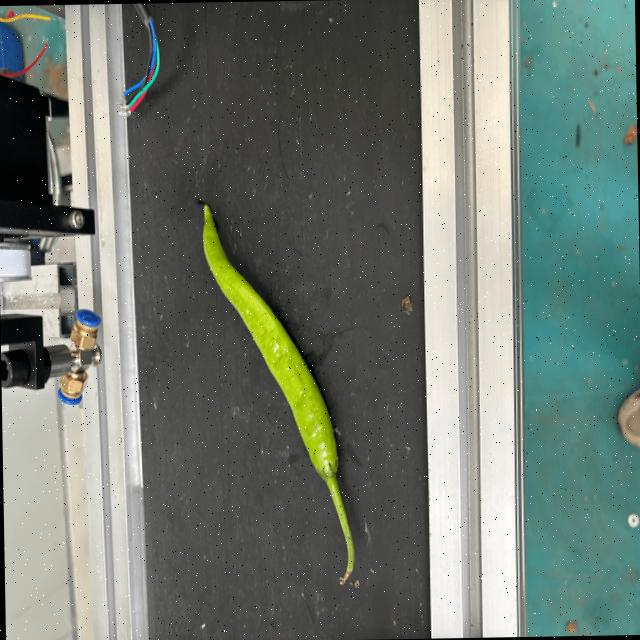chili: (200, 200, 339, 482)
